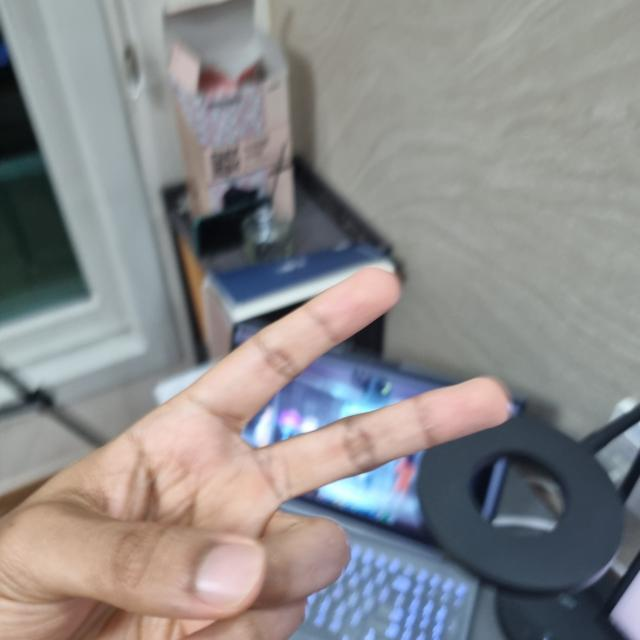Scissors: (0, 266, 512, 639)
